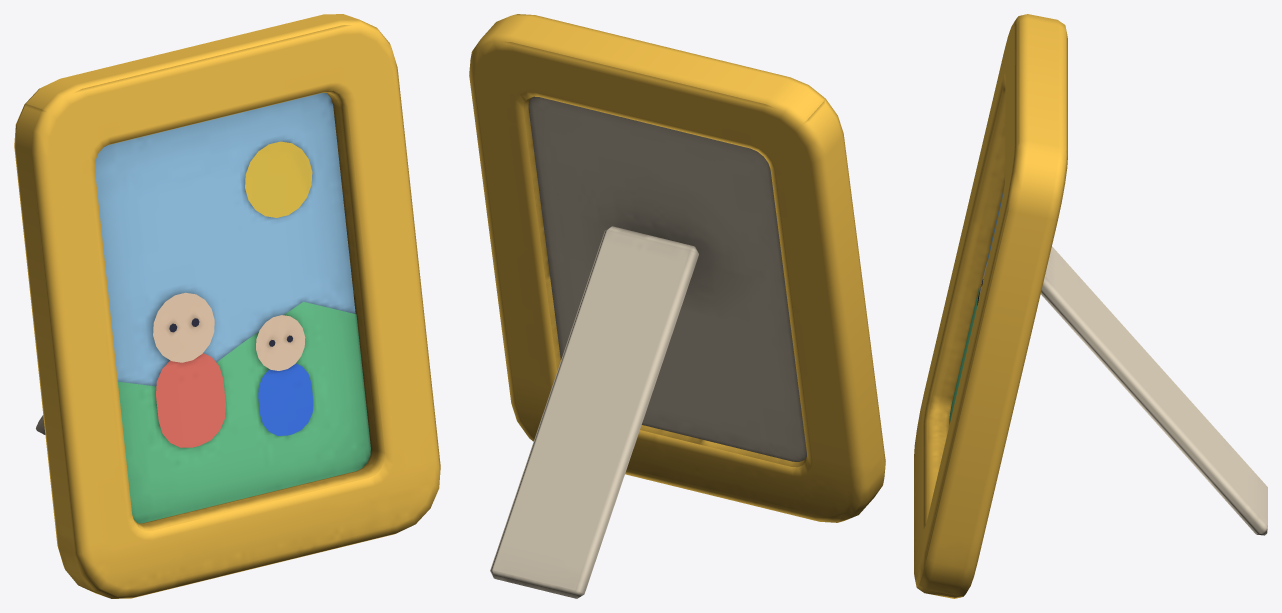
File: photo_frame.glb
3 views of the same model, side by side, from view 1: azimuth 30°, elevation 25°; view 2: azimuth 150°, elevation 25°; view 3: azimuth 270°, elevation 25° (orthographic). The views are drawn at different scales.
Parts seen in each view (by area): view 1: photo_frame; view 2: photo_frame; view 3: photo_frame.
Part boxes in pixels (box(x1,y1,x2,y2)): photo_frame: box(14, 14, 440, 598); photo_frame: box(469, 14, 885, 598); photo_frame: box(914, 14, 1267, 598).
Bounding box in the file's own units: 0.13 × 0.1635 × 0.1157.
9 materials, 9 textured.
